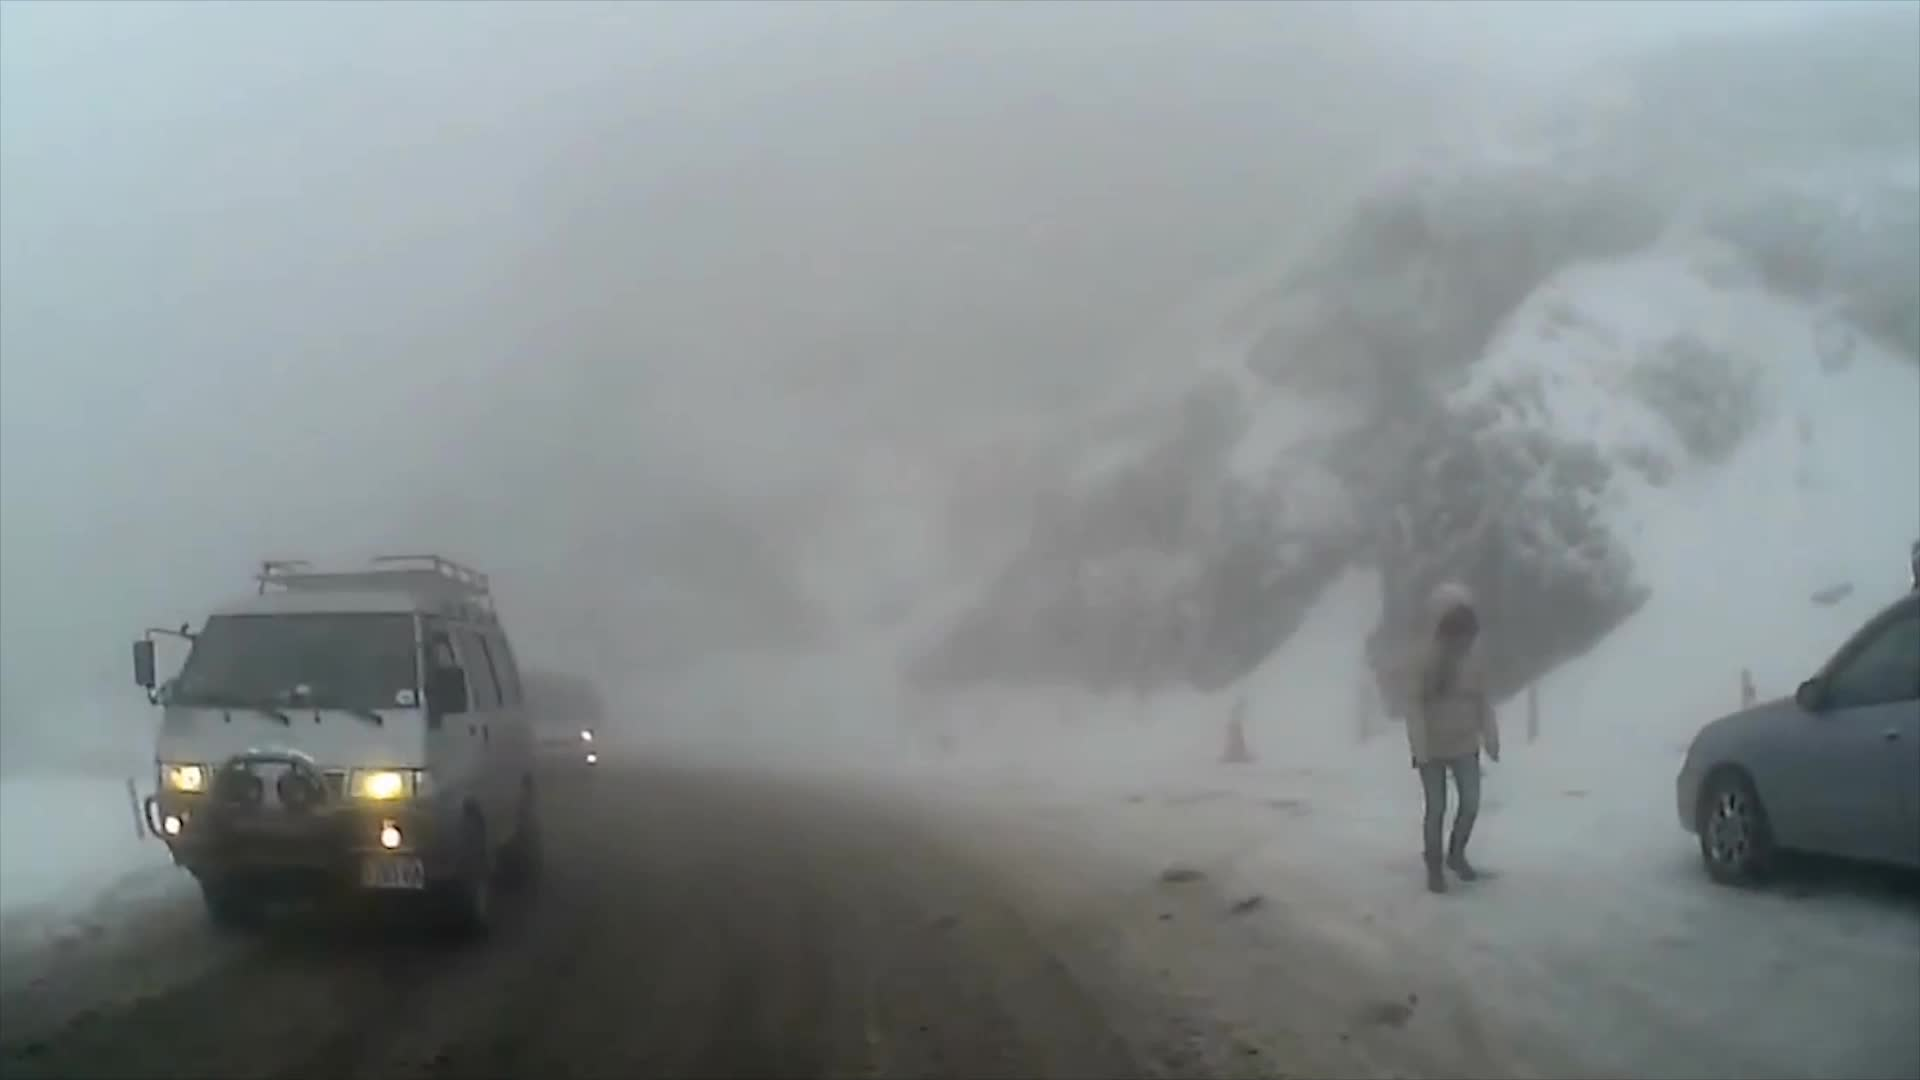pedestrian: (1404, 579, 1500, 894)
vehicle: (128, 547, 538, 942), (1675, 570, 1919, 887)
